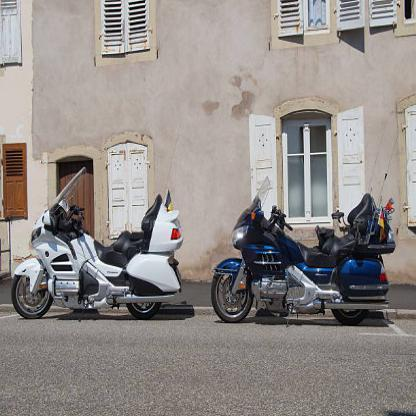Motorcycle: (212, 184, 393, 340), (8, 168, 186, 326)
